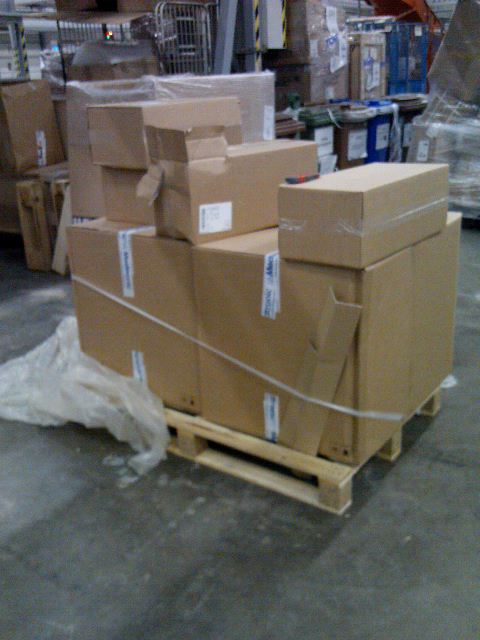label: (197, 200, 235, 235)
package: (187, 215, 463, 465), (65, 217, 202, 414), (145, 137, 325, 248), (279, 160, 449, 267), (89, 95, 242, 168), (145, 130, 225, 163)
